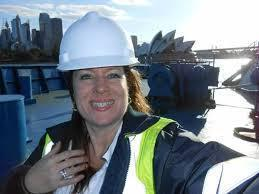helmet: (56, 10, 138, 70)
